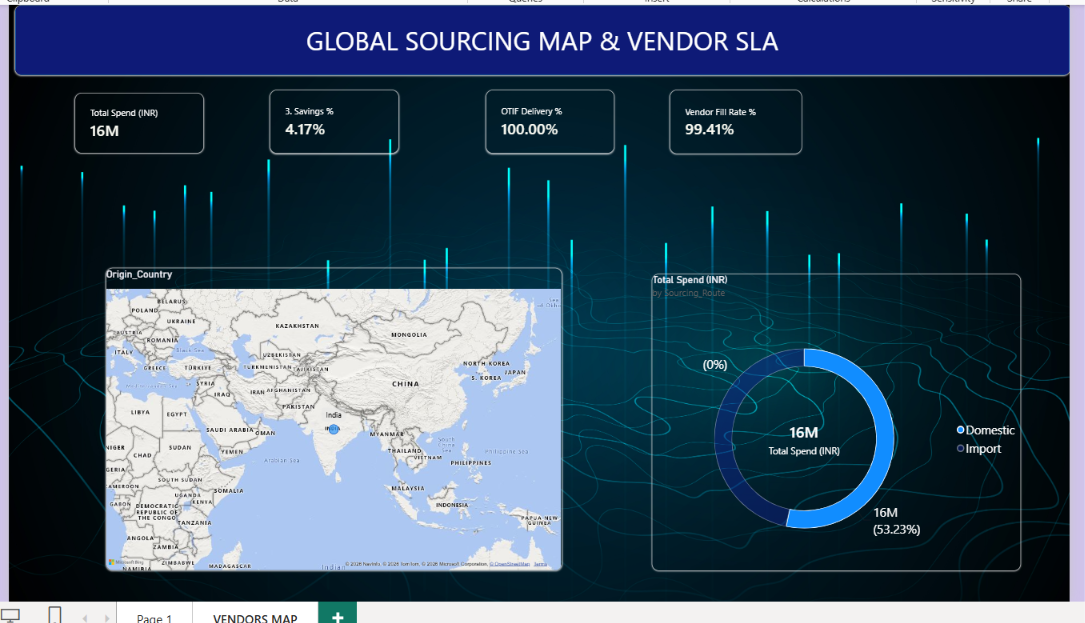

This screenshot's page, from the dashboard's own definition file:
{"tool":"powerbi","page":{"name":"VENDORS MAP","canvas":[1920,1080],"ordinal":1},"visuals":[{"type":"shape","box":[10.3,0,1910.1,128],"z":0},{"type":"cardVisual","fields":{"Data":["powerbi_spend_data.Total Spend (INR)"]},"box":[119.4,159.3,233.2,109.5],"z":2000},{"type":"cardVisual","fields":{"Data":["powerbi_spend_data.3. Savings %"]},"box":[472.3,153.8,233.2,115.6],"z":3000},{"type":"cardVisual","fields":{"Data":["powerbi_spend_data.OTIF Delivery %"]},"box":[863.2,153.8,232.5,115.2],"z":4000},{"type":"cardVisual","fields":{"Data":["powerbi_spend_data.Vendor Fill Rate %"]},"box":[1196.2,153.8,239,116],"z":5000},{"type":"map","fields":{"Category":["powerbi_spend_data.Origin_Country"]},"box":[175.5,475.9,825.2,548.3],"z":5001},{"type":"donutChart","fields":{"Category":["powerbi_spend_data.Sourcing_Route"],"Y":["powerbi_spend_data.Total Spend (INR)"]},"box":[1163.6,486.8,667.8,537.5],"z":5002}]}

Visuals, with their boxes on the page's 1920x1080 design canvas (x1, y1, x2, y2). These are canvas units, not pixel positions in the 1085x623 screenshot, which may show the page scaled, cropped or inside an application window:
shape: Rect(10, 0, 1920, 128)
cardVisual - powerbi_spend_data.Total Spend (INR): Rect(119, 159, 353, 269)
cardVisual - powerbi_spend_data.3. Savings %: Rect(472, 154, 706, 269)
cardVisual - powerbi_spend_data.OTIF Delivery %: Rect(863, 154, 1096, 269)
cardVisual - powerbi_spend_data.Vendor Fill Rate %: Rect(1196, 154, 1435, 270)
map - powerbi_spend_data.Origin_Country: Rect(176, 476, 1001, 1024)
donutChart - powerbi_spend_data.Sourcing_Route x powerbi_spend_data.Total Spend (INR): Rect(1164, 487, 1831, 1024)
